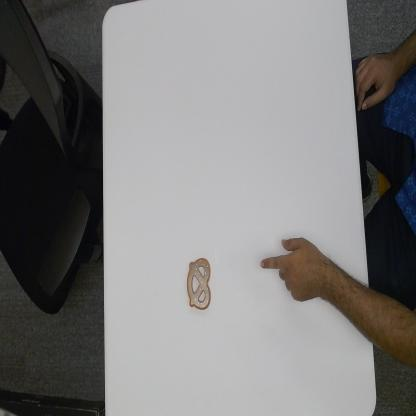Arm: (330, 257, 416, 368)
Hand: (259, 232, 330, 306)
Pretzel: (184, 252, 213, 312)
